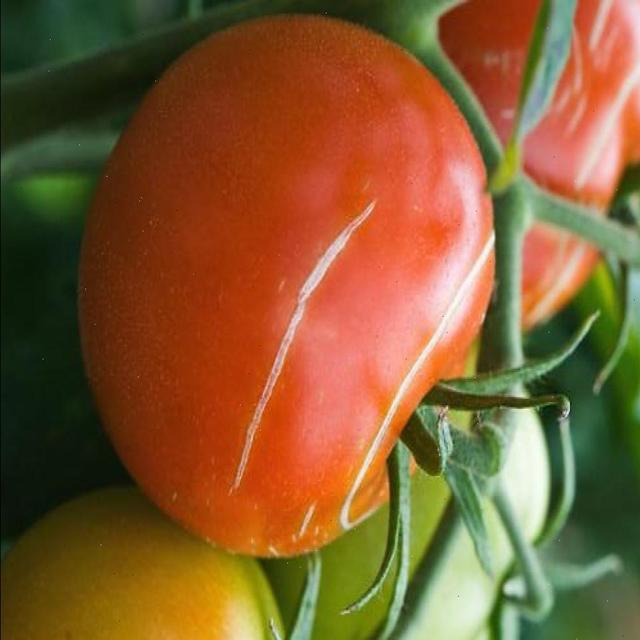Cracking Fruit: (28, 22, 405, 256)
